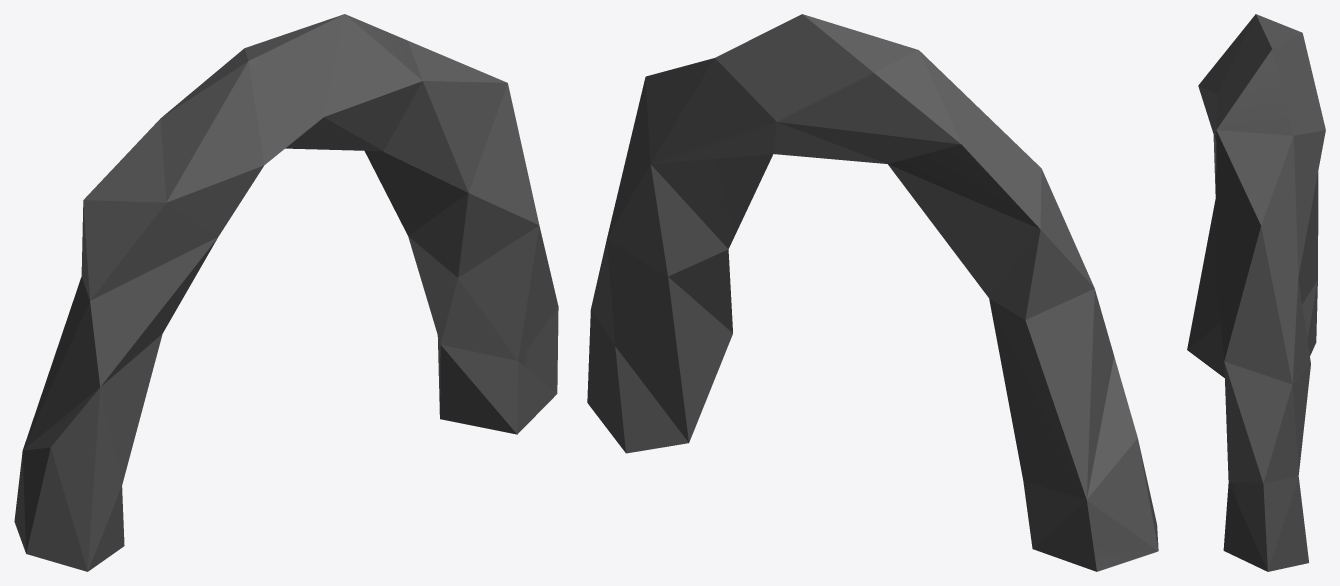
Rendered from ArchCollision_Mod.fbx.
3 renders of one model, left to right at view 1: azimuth 30°, elevation 25°; view 2: azimuth 150°, elevation 25°; view 3: azimuth 270°, elevation 25°, orthographic. The views are drawn at different scales.
Parts seen in each view (by area): view 1: Cube.002; view 2: Cube.002; view 3: Cube.002.
Boxes of the visible parts, bbox=[...] form: Cube.002: bbox=[14, 14, 558, 571]; Cube.002: bbox=[587, 14, 1158, 571]; Cube.002: bbox=[1187, 14, 1325, 571].
Size of the model in its own units: 1191 by 974 by 269.
